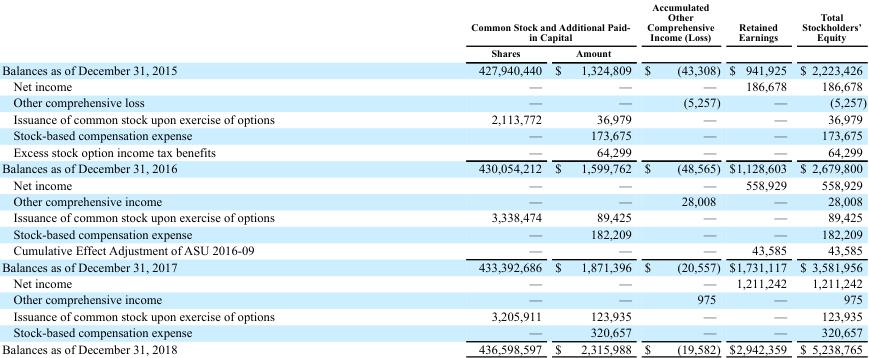table: (1, 0, 866, 355)
table column: (1, 0, 372, 355), (372, 0, 547, 355), (547, 0, 637, 355), (637, 0, 724, 355), (792, 0, 866, 355), (724, 0, 792, 355)
table column header: (1, 0, 866, 60)
table row: (1, 0, 866, 44), (1, 60, 866, 77), (1, 93, 866, 110), (1, 126, 866, 143), (1, 159, 866, 176), (1, 208, 866, 225), (1, 241, 866, 258), (1, 290, 866, 307), (1, 323, 866, 340), (1, 44, 866, 60), (1, 77, 866, 93), (1, 110, 866, 126), (1, 143, 866, 159), (1, 176, 866, 192), (1, 192, 866, 208), (1, 225, 866, 241), (1, 258, 866, 274), (1, 274, 866, 290), (1, 307, 866, 323), (1, 340, 866, 355)
table spanning cell: (372, 0, 637, 44), (637, 0, 724, 60), (792, 0, 866, 60), (724, 0, 792, 60)
